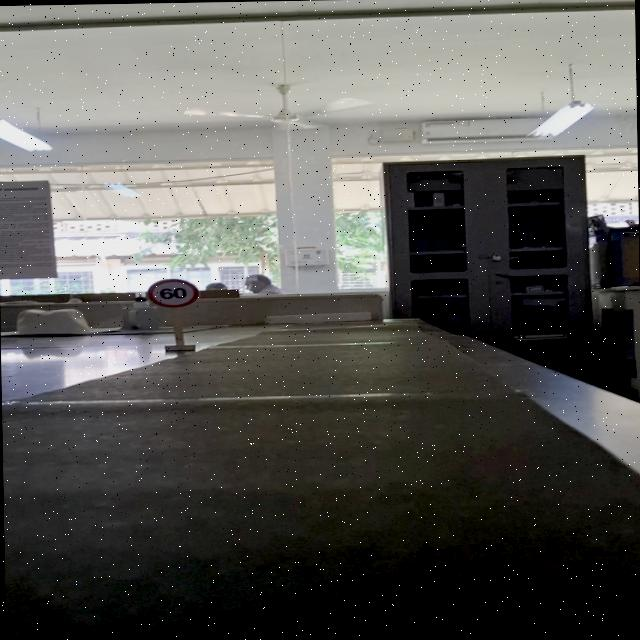Speed60: (144, 276, 200, 308)
